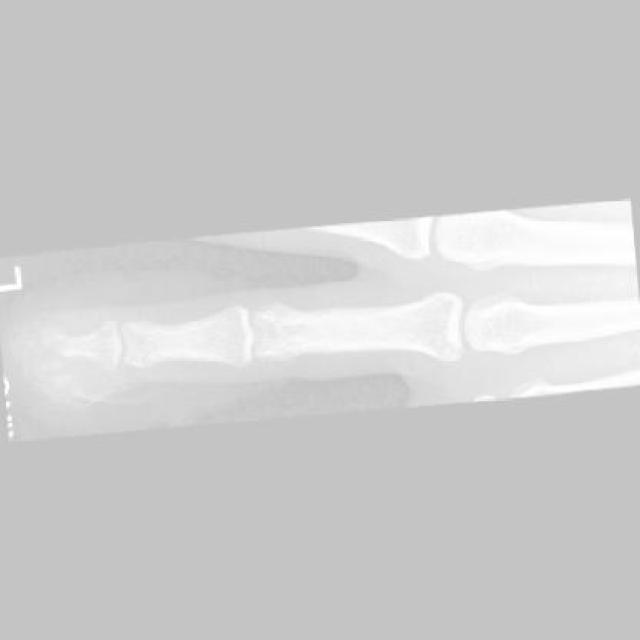Fracture: (29, 323, 80, 372)
